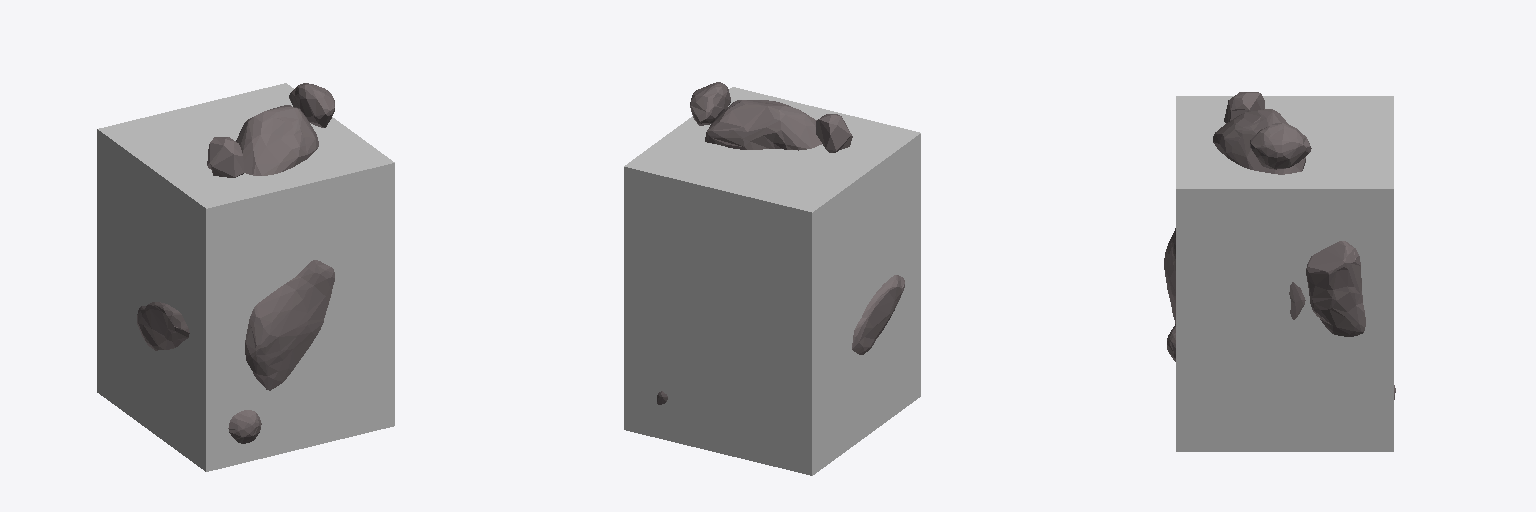
3 views of the same model, side by side, from view 1: azimuth 30°, elevation 25°; view 2: azimuth 150°, elevation 25°; view 3: azimuth 270°, elevation 25° (orthographic).
Visible parts, largest first — view 1: UCX_bear, bear-sp22.001; view 2: UCX_bear, bear-sp22.001; view 3: UCX_bear, bear-sp22.001.
Boxes of the visible parts, <box> form: UCX_bear: <box>97,83,394,471</box>; bear-sp22.001: <box>137,83,334,443</box>; UCX_bear: <box>624,87,920,475</box>; bear-sp22.001: <box>657,82,904,404</box>; UCX_bear: <box>1176,96,1393,451</box>; bear-sp22.001: <box>1164,92,1395,399</box>.
Bounding box in the file's own units: 6.92 × 9.59 × 6.38.
Materials: 2 (1 with a texture image).